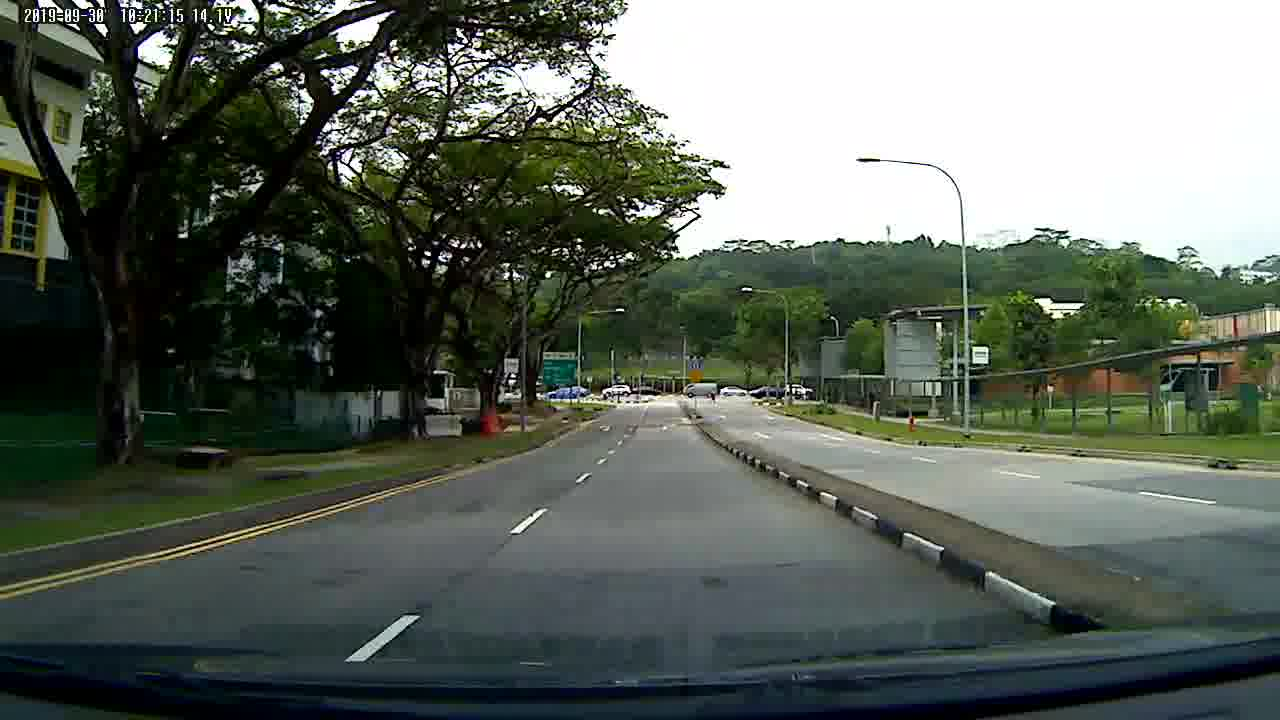car: (599, 381, 631, 396)
